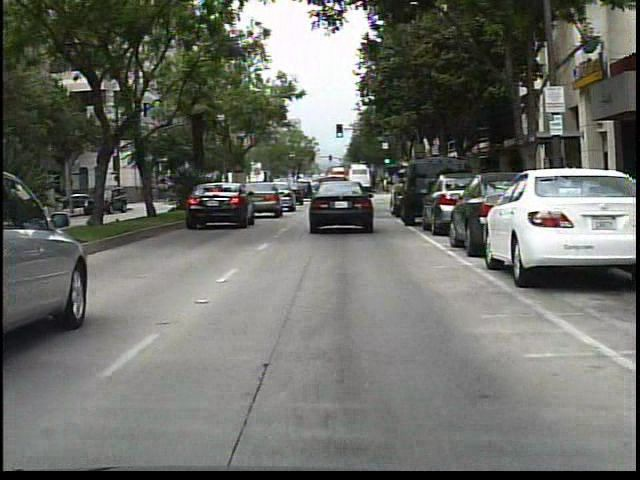person: (558, 156, 581, 217)
